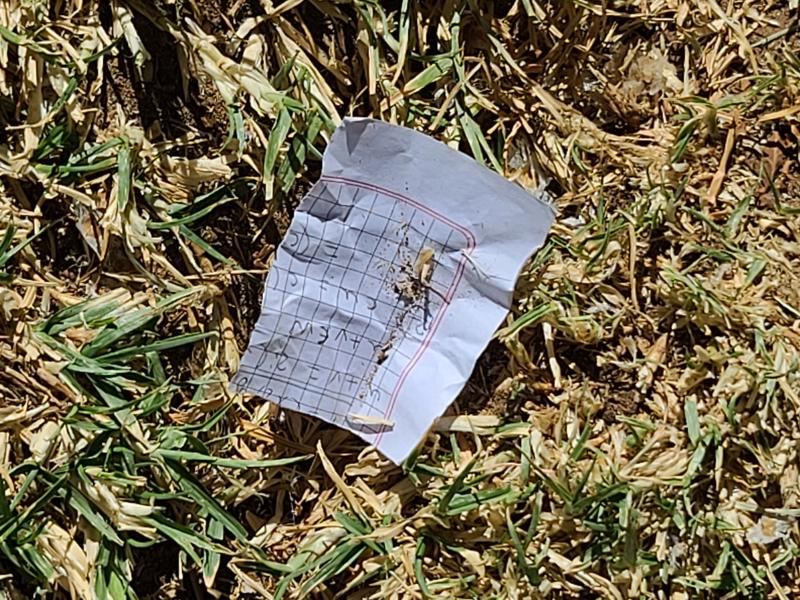papel: (232, 118, 555, 465)
